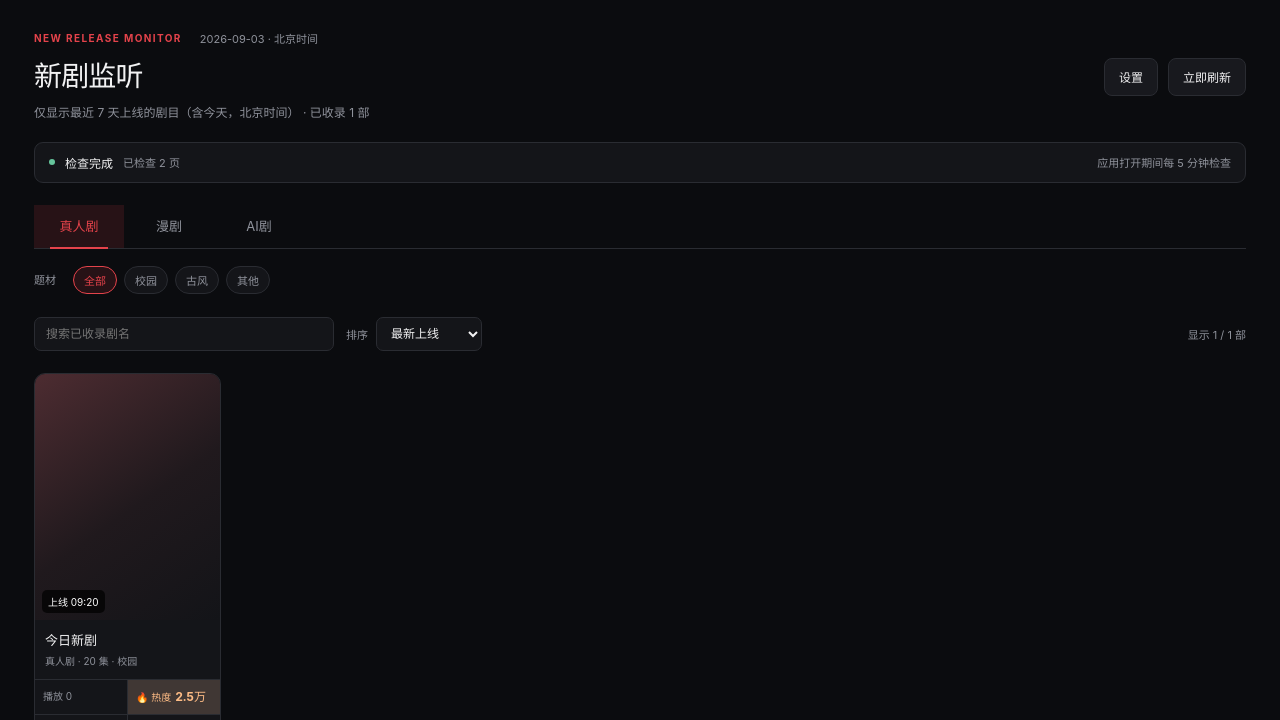
Test: NewReleasesPage › edits the day range only after saving the settings dialog
This screenshot has width=1280, height=720.
Click the button with aria-label "监听设置" at x=1131, y=77, box top-left (1104, 58), bottom-right (1158, 96)
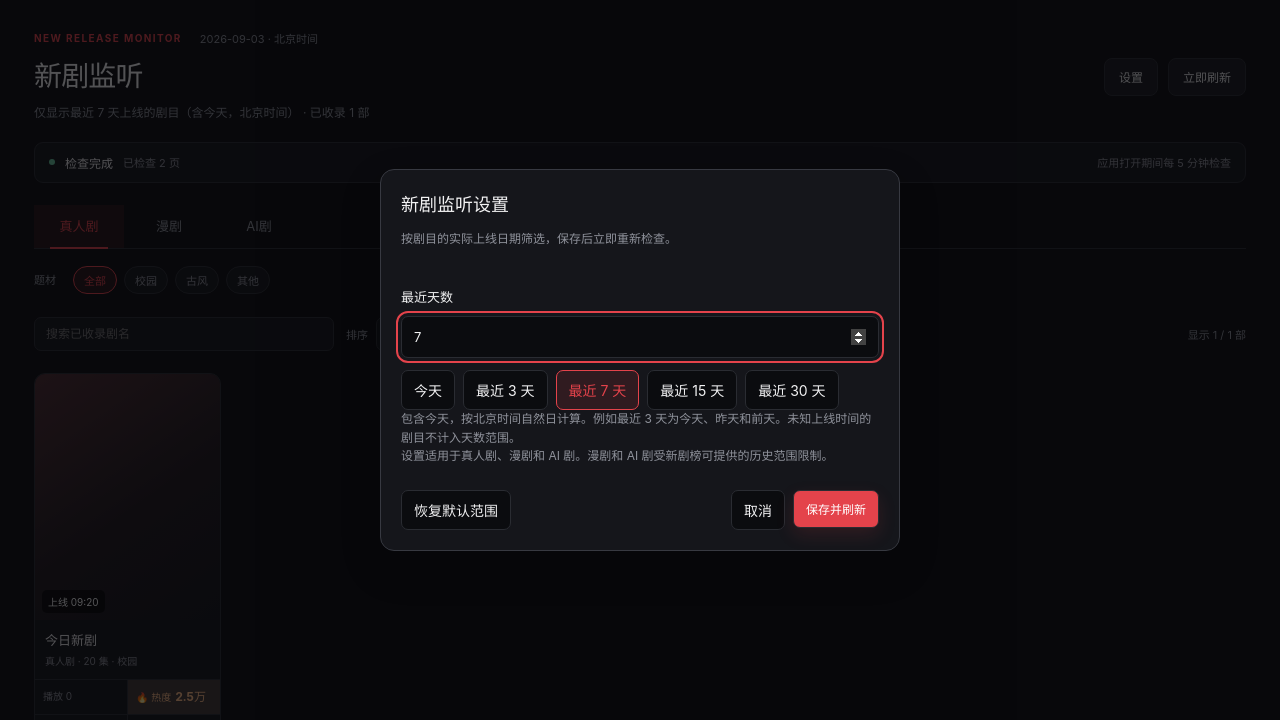
Replace the text in the number field labelled "最近天数" with "3" at x=640, y=337, box top-left (401, 316), bottom-right (879, 358)
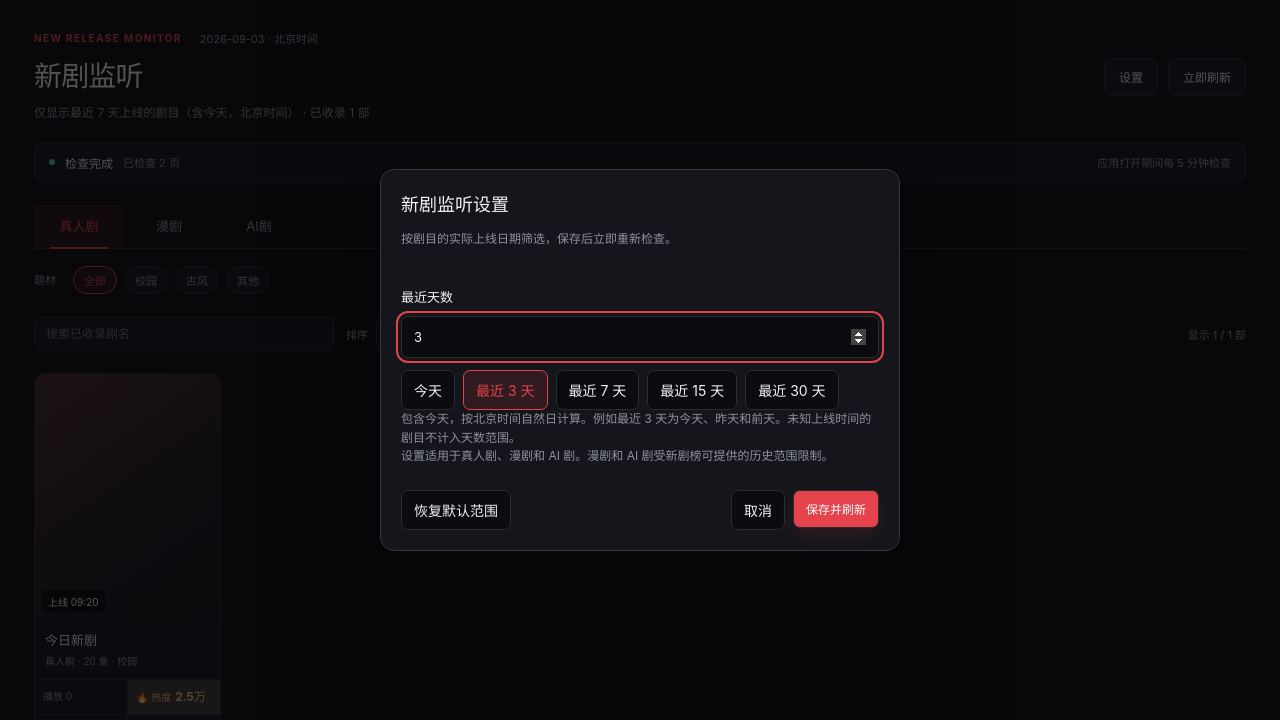
Click the button "取消" at x=758, y=510, box top-left (731, 490), bottom-right (785, 530)
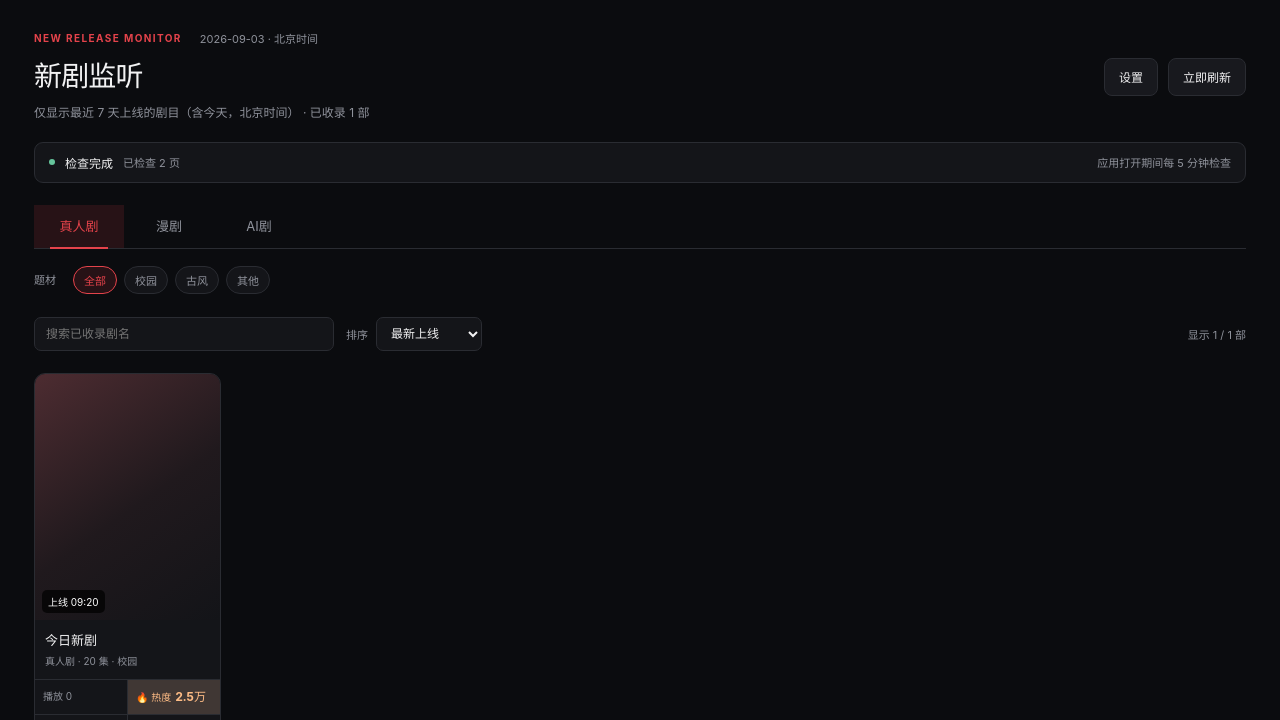
Click the button with aria-label "监听设置" at x=1131, y=77, box top-left (1104, 58), bottom-right (1158, 96)
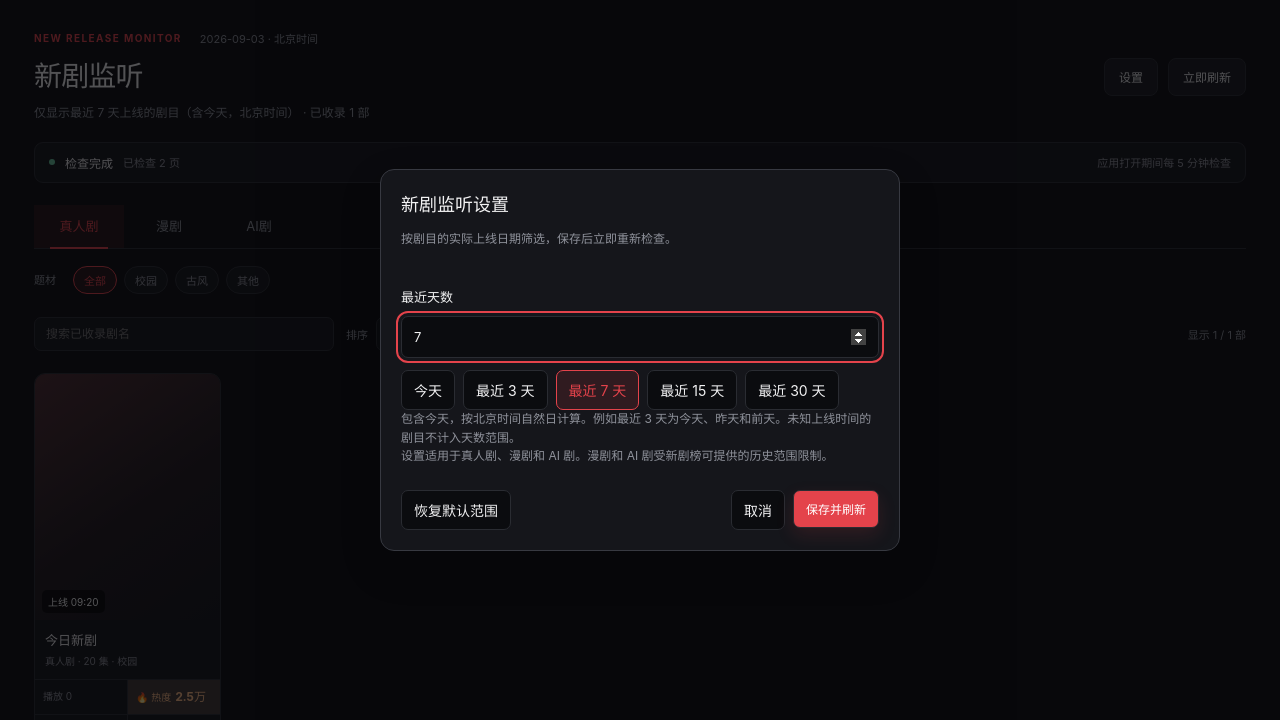
Result: the number field labelled "最近天数" holds "7"
Replace the text in the number field labelled "最近天数" with "3" at x=640, y=337, box top-left (401, 316), bottom-right (879, 358)
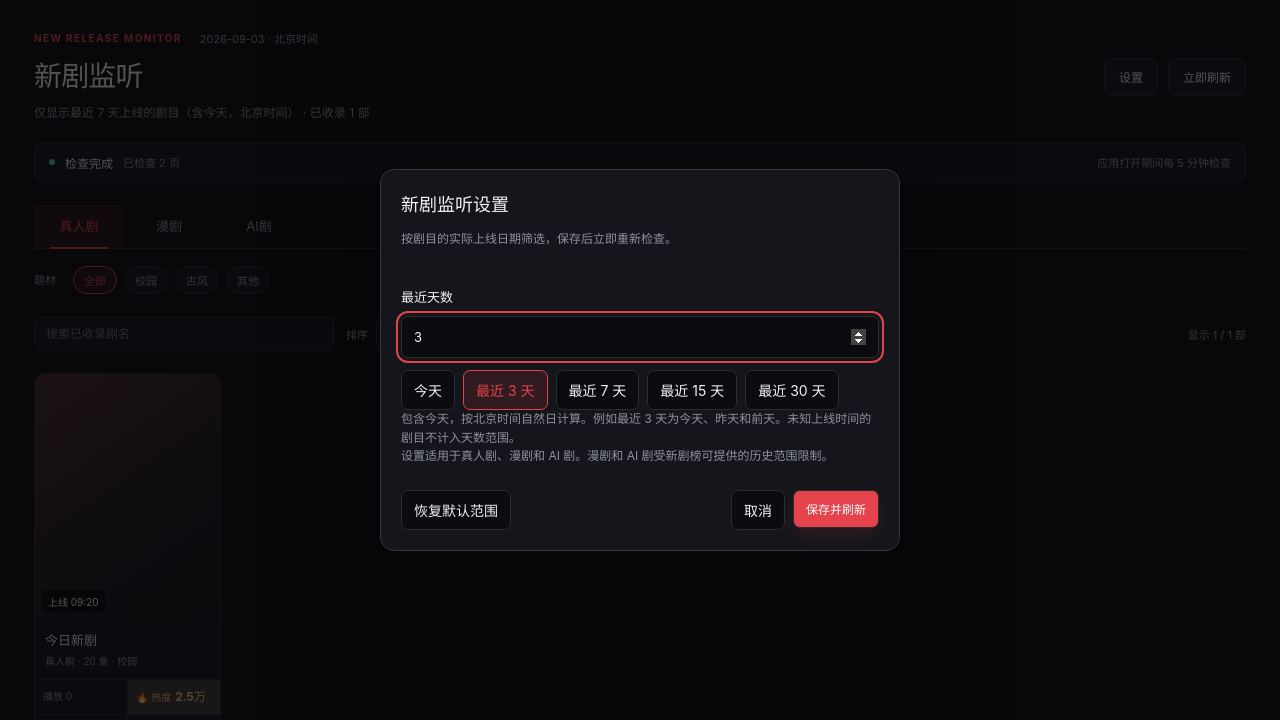
Click the button "保存并刷新" at x=836, y=509, box top-left (793, 490), bottom-right (879, 528)
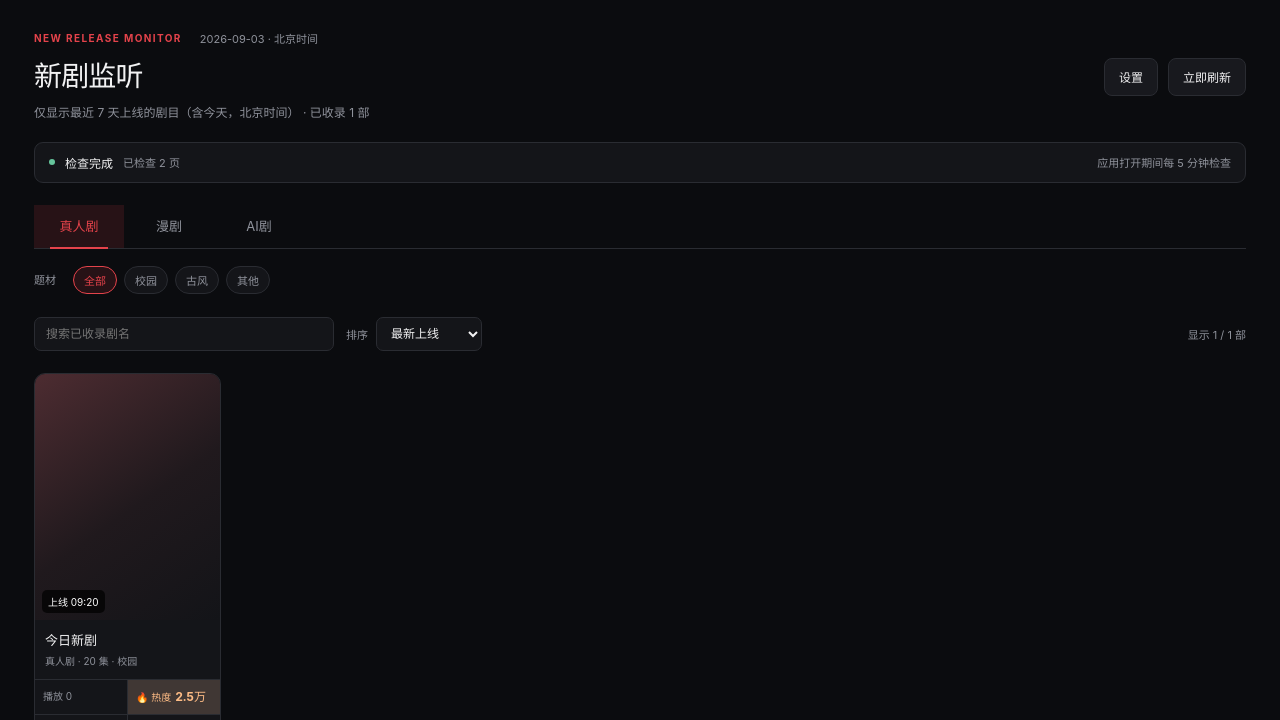
Result: the dialog is gone
